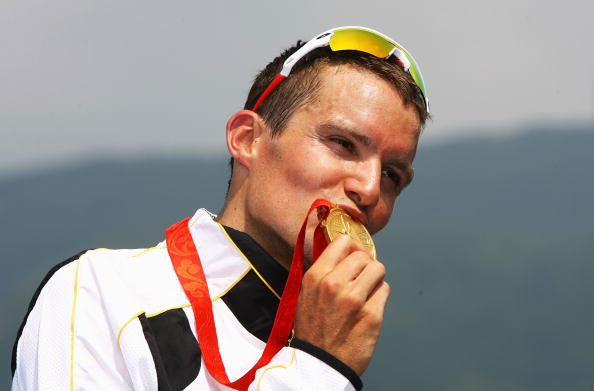face: (262, 82, 415, 261)
